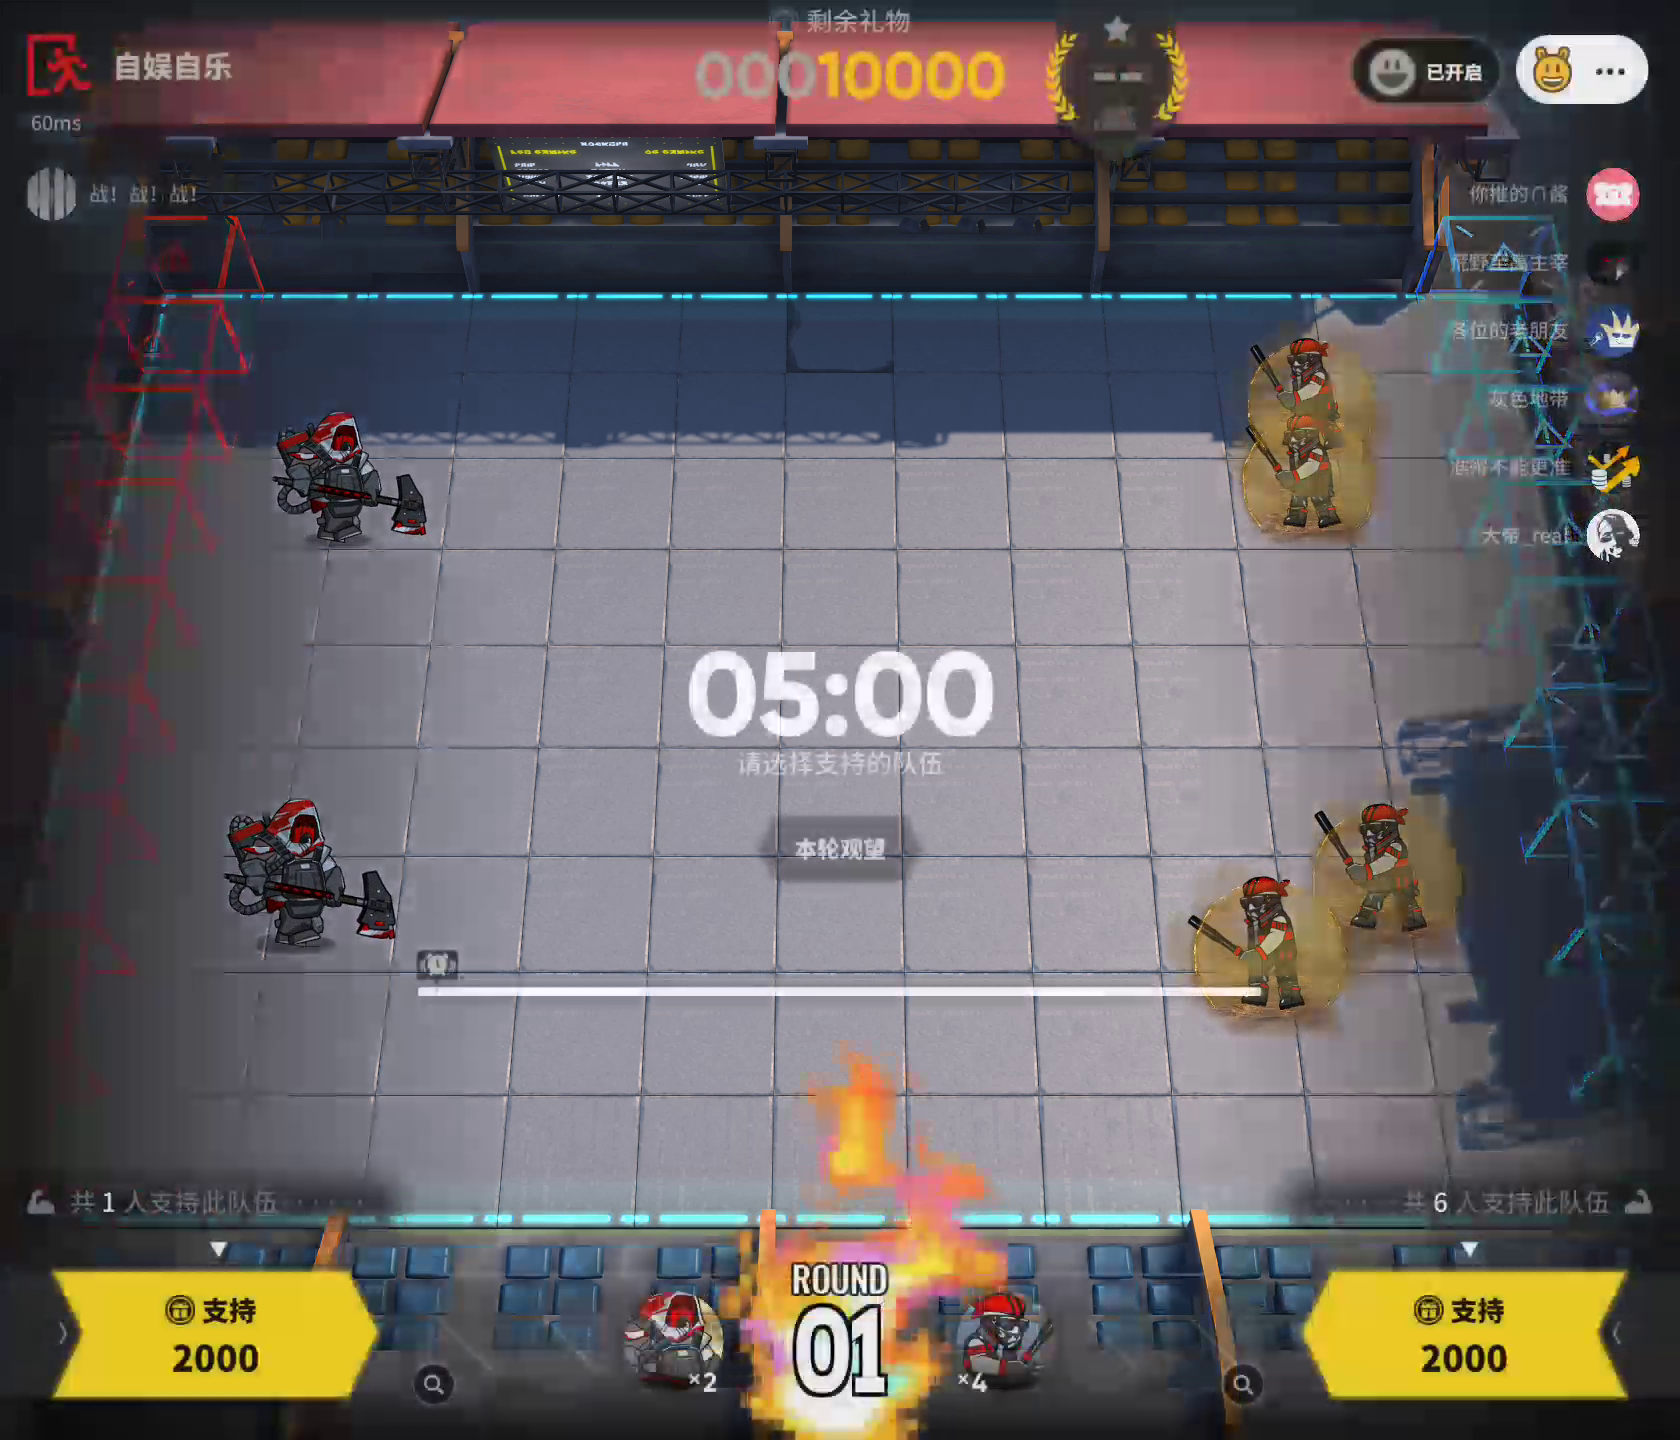“大斧”: (211, 783, 409, 966), (270, 394, 447, 561), (619, 1283, 724, 1399)
玻璃球打手: (1171, 860, 1351, 1040), (1307, 796, 1461, 959), (1236, 324, 1384, 467), (1244, 404, 1379, 550), (941, 1283, 1059, 1394)
